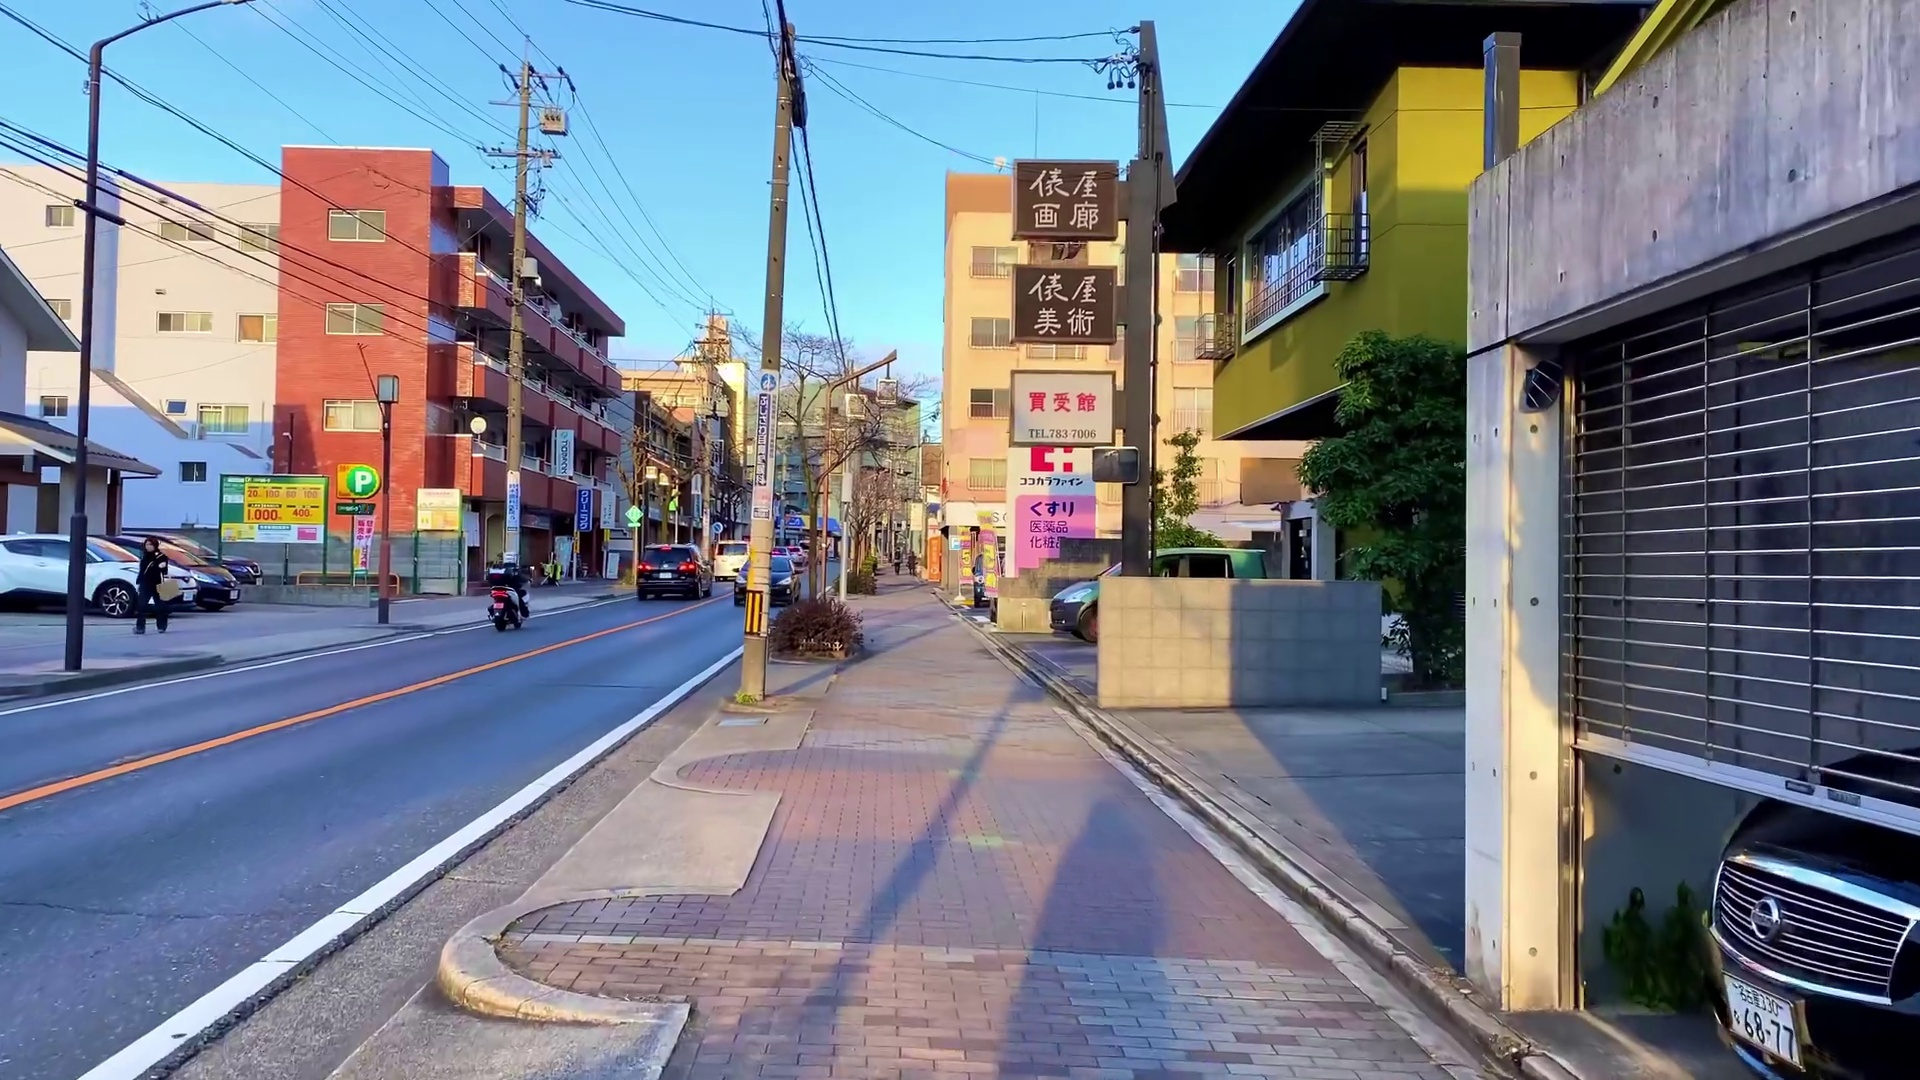car: (638, 546, 712, 604)
